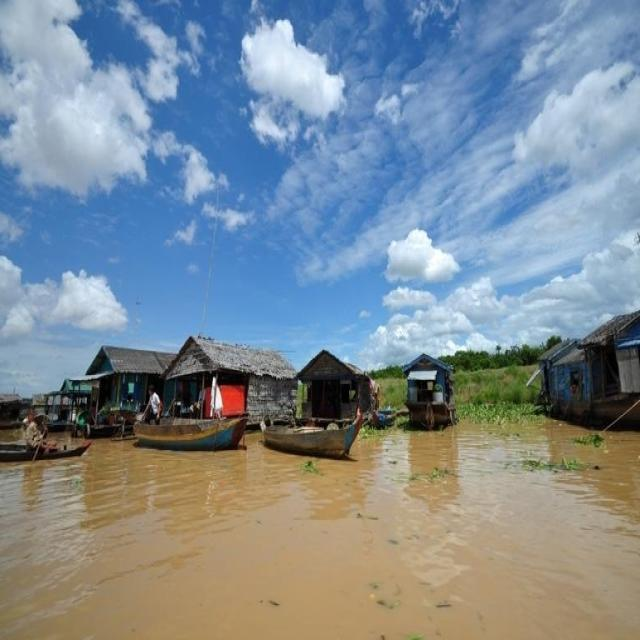Hyacinth: (466, 400, 545, 431), (513, 453, 589, 480), (397, 462, 452, 490), (574, 431, 610, 453), (291, 457, 325, 476)
boat: (259, 409, 365, 461), (133, 413, 254, 458), (401, 357, 454, 425), (0, 431, 97, 466)
